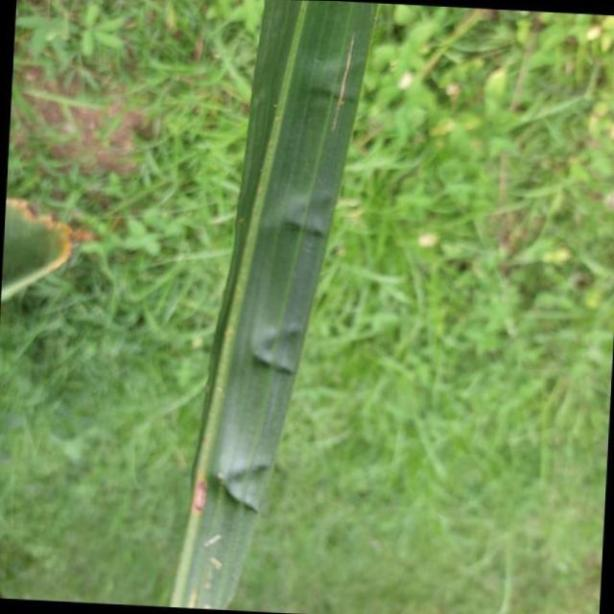Boron: (163, 0, 381, 614)
